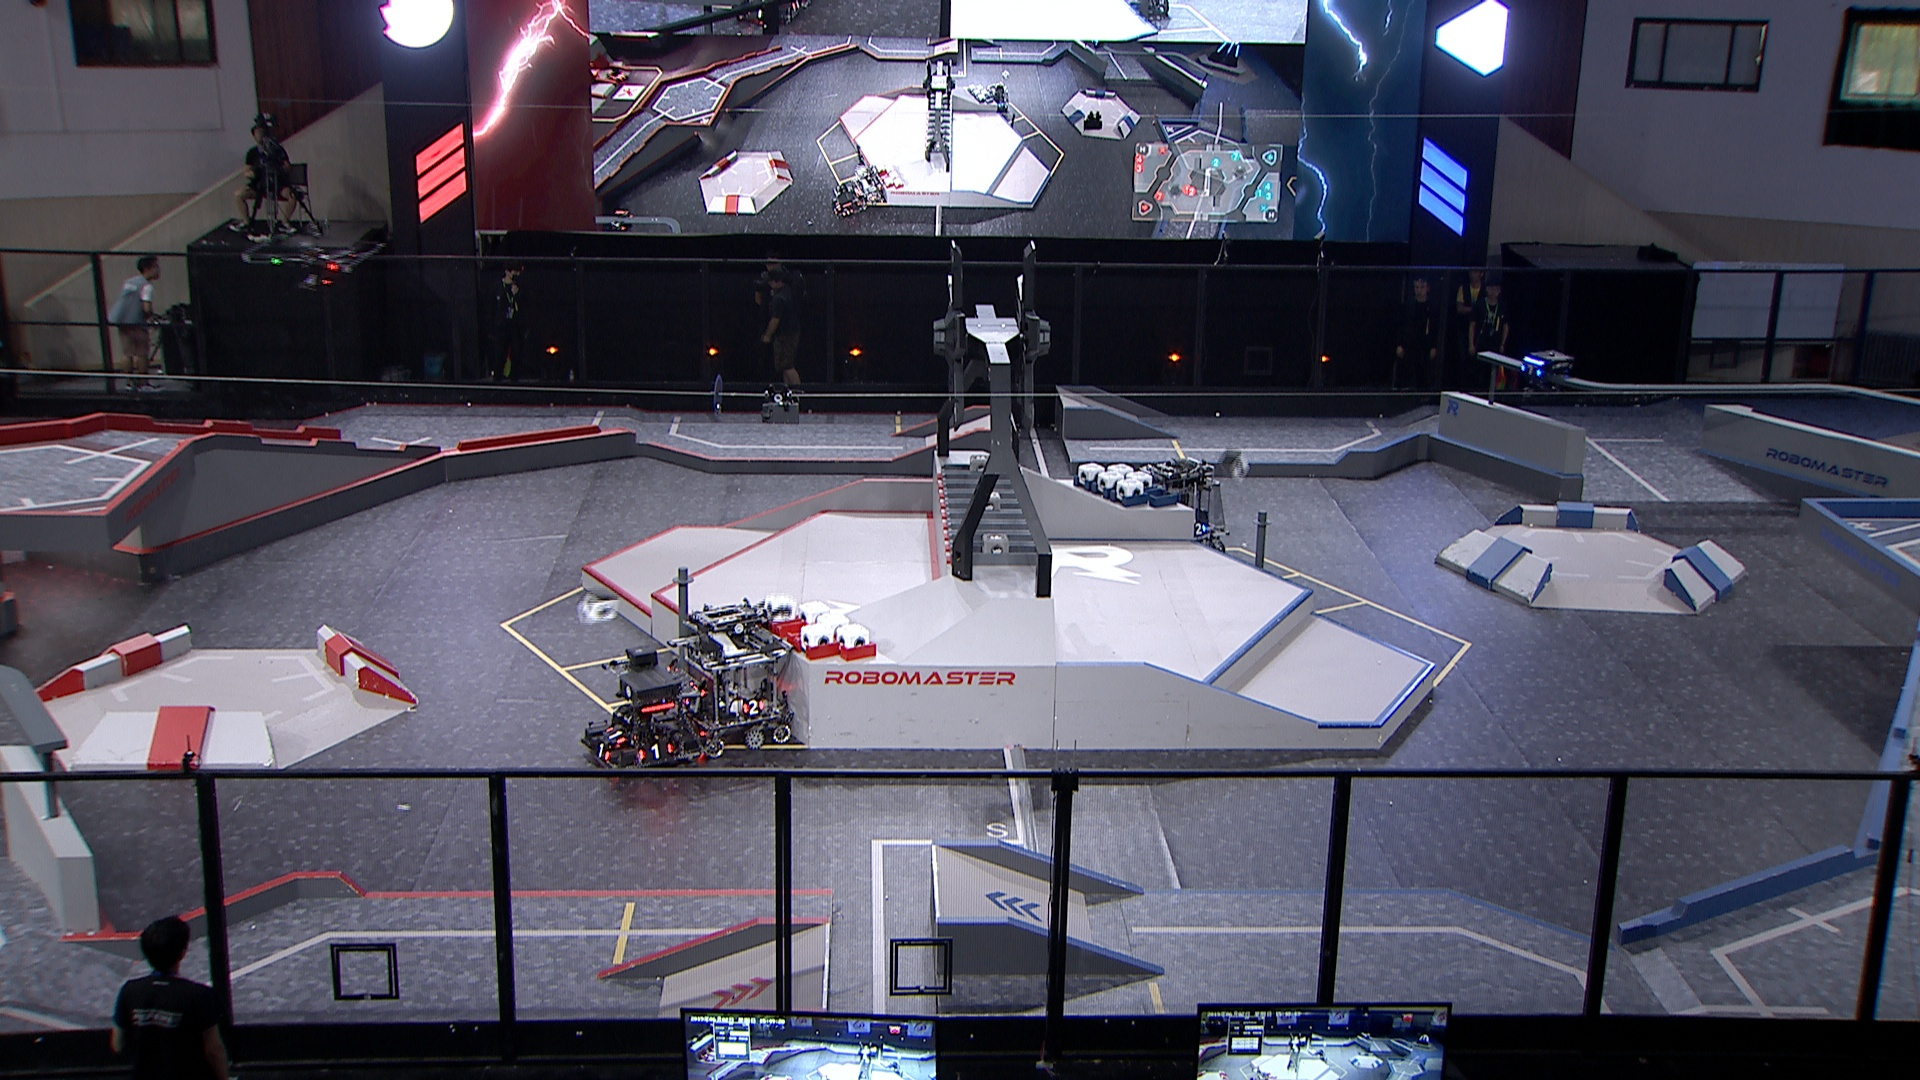armor: (636, 742, 674, 761), (740, 699, 766, 716), (603, 727, 626, 745), (591, 742, 613, 761), (1518, 363, 1545, 377), (1191, 522, 1209, 537)
car: (659, 597, 796, 754), (579, 647, 704, 777), (1139, 455, 1233, 560)
ignore: (829, 179, 869, 218), (852, 164, 885, 204), (978, 82, 1011, 115), (1209, 41, 1244, 69), (607, 210, 636, 235), (603, 63, 632, 84)
watcher: (1509, 348, 1575, 400)
